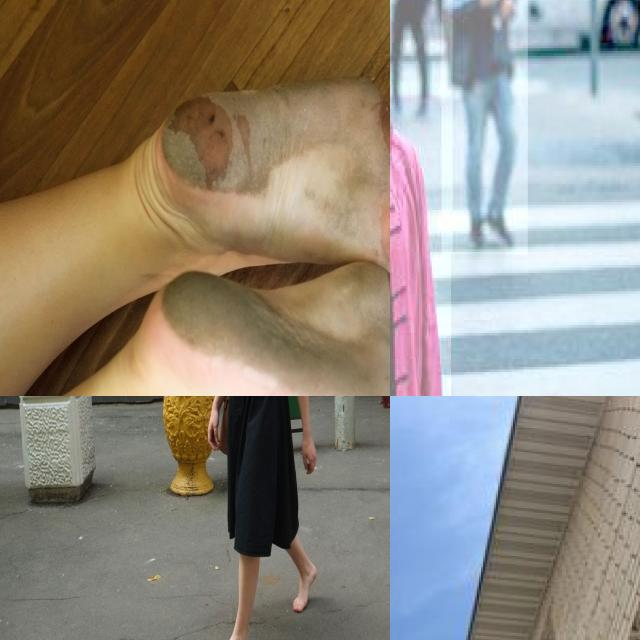Barefoots: (153, 77, 390, 292), (143, 261, 390, 396), (293, 562, 317, 613)
person: (390, 0, 452, 396), (441, 0, 529, 257)
shoes: (484, 198, 516, 248), (464, 205, 494, 252)
